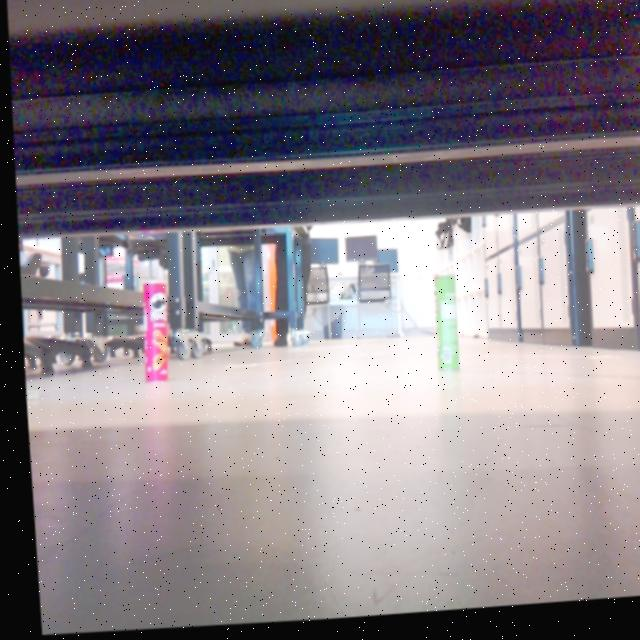greenpringles: (418, 265, 470, 387)
redpringles: (119, 270, 183, 390)
